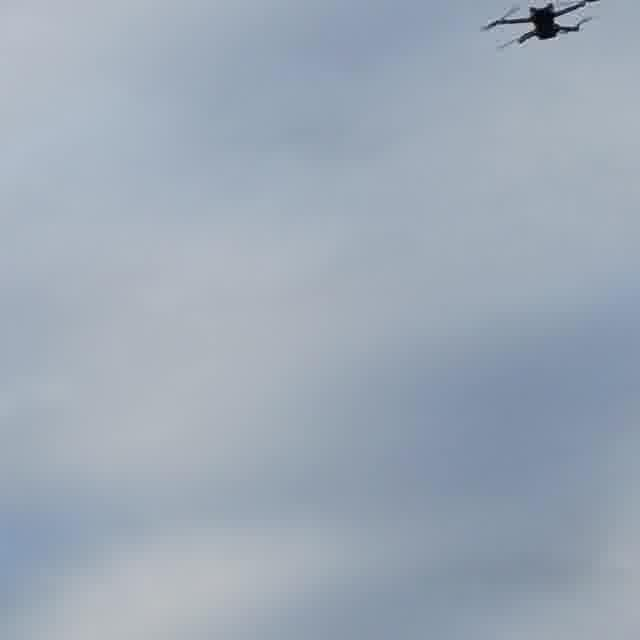Drohne: (485, 0, 599, 47)
